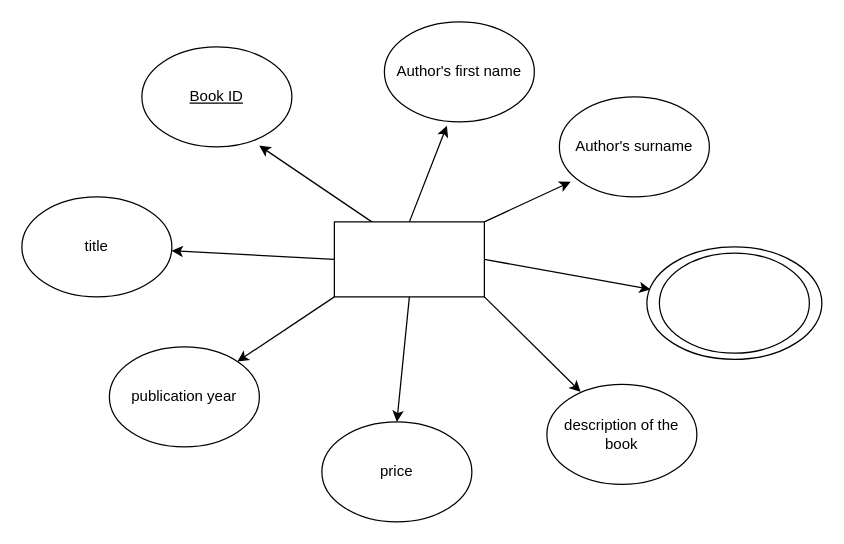
The diagram is 844 pixels wide and 544 high, and some of its shapes have lost their labels. Here are the shapes that lost their labels. From the top down, the centre of each, then its label:
At pixel 408 259: "Book".
At pixel 733 302: "When book is on sale".
